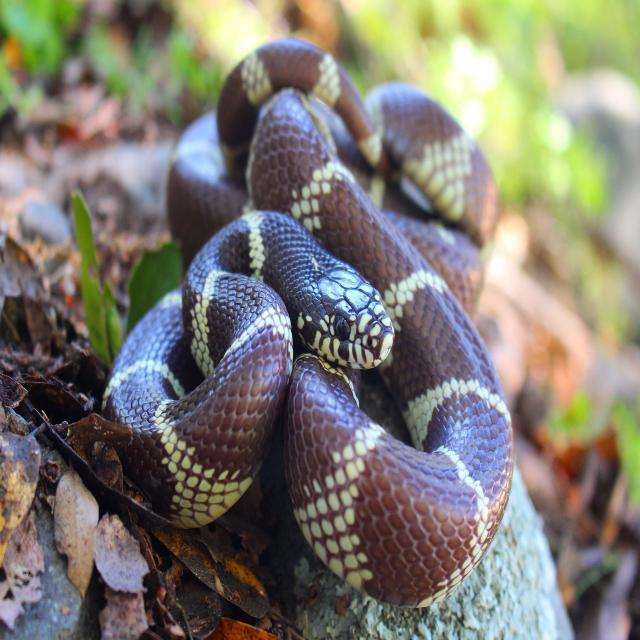Snake: (101, 0, 542, 637)
